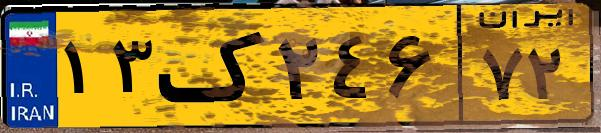1: (57, 26, 110, 100)
2: (270, 28, 330, 110), (525, 38, 570, 115)
3: (110, 28, 158, 98)
4: (330, 28, 385, 110)
6: (385, 28, 445, 110)
7: (475, 38, 525, 113)
ک: (158, 12, 270, 120)
